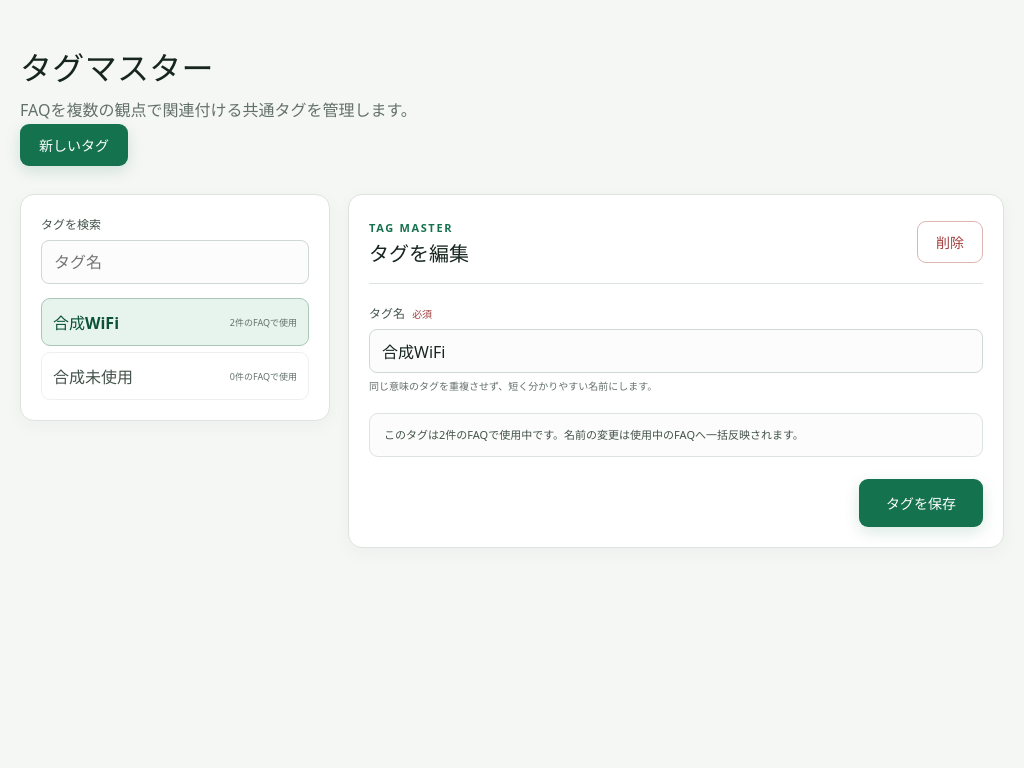
Test case: TagsPage C# migration contracts › renames a used tag with its original ID
Replace the text in the field labelled "タグ名 必須" with "合成ネットワーク" at (676, 351), box [369, 329, 983, 373]
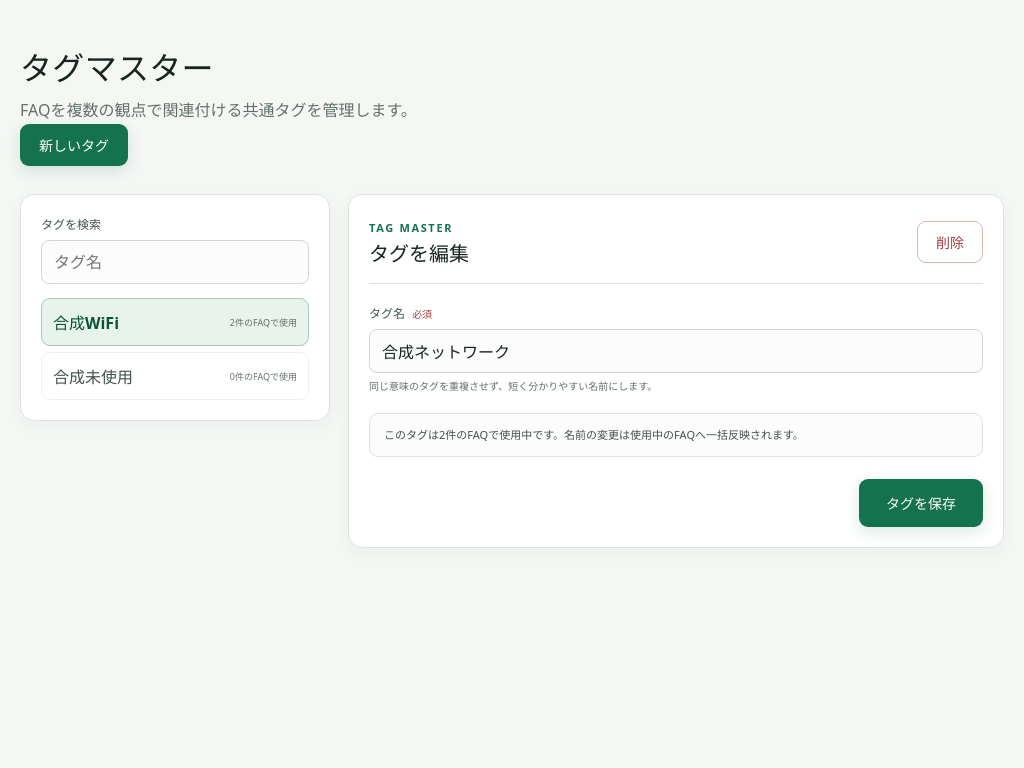
Click the button "タグを保存" at (921, 503), box [859, 479, 983, 527]
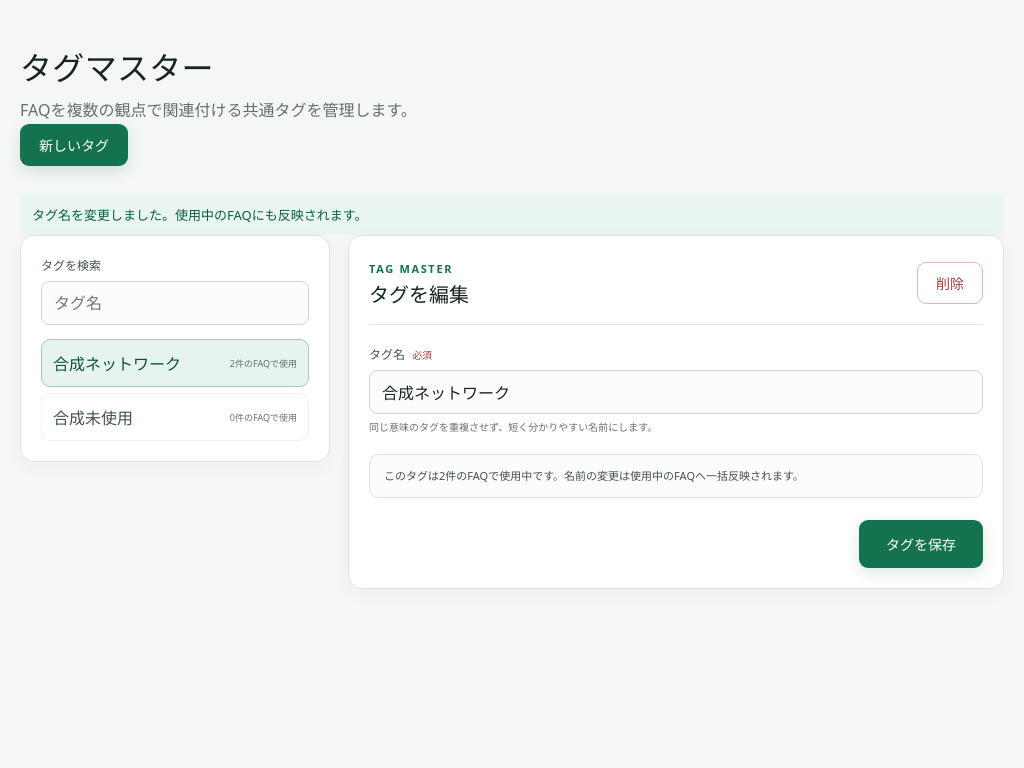
Result: the message shows "使用中のFAQにも反映されます" at [32, 206, 367, 224]
